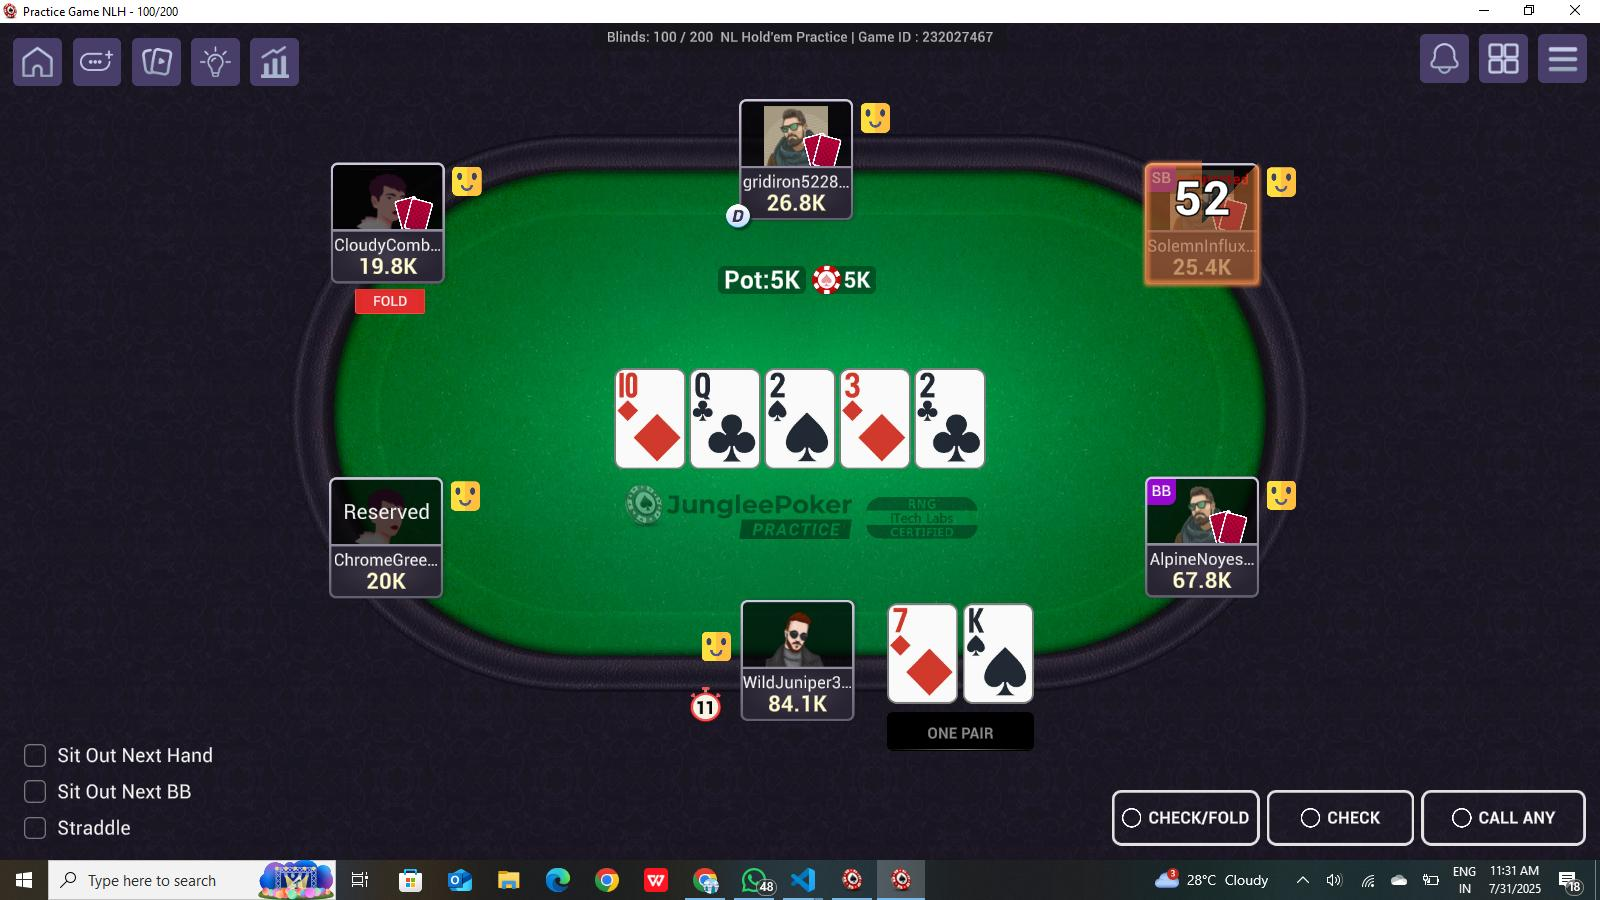card1_rank: (888, 605, 955, 645)
card1_suite_diamond: (900, 645, 960, 705)
card2_rank: (964, 602, 1027, 641)
card2_suite_spades: (978, 641, 1030, 700)
flop1_rank: (612, 370, 681, 403)
flop1_suite_diamond: (627, 404, 684, 464)
flop2_rank: (692, 370, 764, 408)
flop2_suite_club: (704, 409, 760, 468)
flop3_rank: (764, 367, 832, 412)
flop3_suite_spades: (773, 409, 833, 466)
game_id: (852, 19, 1008, 55)
my_stack: (746, 687, 854, 720)
position_BB: (1142, 477, 1184, 508)
position_SB: (1148, 160, 1180, 197)
river_rank: (912, 367, 982, 408)
river_suite_club: (927, 401, 981, 468)
total_pot: (716, 265, 879, 295)
turn_rank: (840, 370, 905, 408)
turn_suite_diamond: (852, 402, 912, 466)
villian1_name: (327, 538, 440, 570)
villian1_stack: (336, 560, 437, 593)
villian2_name: (327, 226, 443, 258)
villian2_stack: (332, 252, 443, 284)
villian3_name: (740, 168, 854, 198)
villian3_stack: (740, 189, 851, 216)
villian4_name: (1144, 226, 1256, 260)
villian4_stack: (1144, 248, 1262, 284)
villian5_name: (1142, 545, 1263, 569)
villian5_stack: (1151, 560, 1257, 595)
